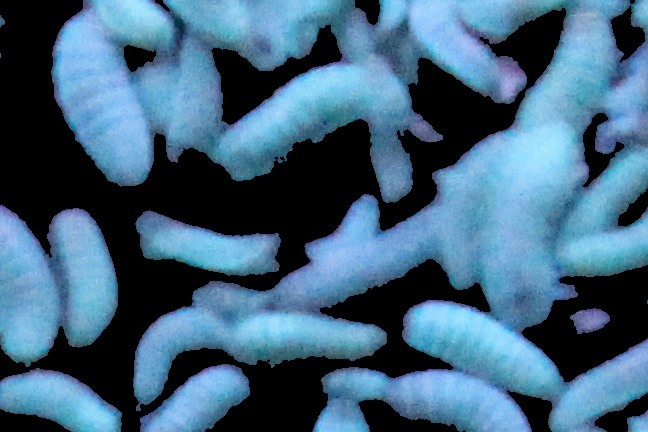larvae: (476, 128, 584, 326), (214, 63, 369, 182), (272, 197, 442, 305), (53, 11, 155, 185), (403, 301, 570, 402), (438, 131, 518, 287), (524, 13, 617, 128), (131, 308, 232, 405), (51, 205, 119, 346), (132, 63, 231, 157), (549, 341, 648, 432), (135, 213, 278, 275), (391, 370, 532, 432), (240, 312, 389, 367), (1, 205, 53, 361), (565, 143, 648, 236), (1, 369, 122, 432), (410, 2, 498, 88), (164, 38, 223, 164), (138, 365, 248, 432), (561, 215, 648, 286), (307, 195, 380, 258), (87, 3, 176, 51), (321, 369, 392, 404)
